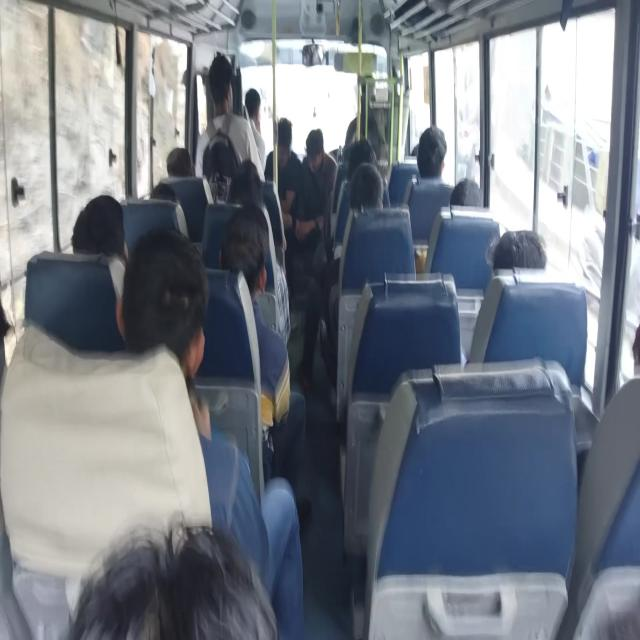person: (128, 220, 225, 387), (488, 194, 596, 330), (73, 548, 210, 640), (601, 297, 640, 420), (51, 177, 105, 249), (226, 202, 266, 287), (214, 52, 247, 127), (351, 165, 389, 218), (280, 110, 305, 168), (236, 163, 264, 212), (163, 127, 195, 168), (301, 127, 326, 176), (345, 134, 371, 180), (422, 129, 450, 169), (222, 144, 253, 180), (460, 164, 486, 205), (245, 69, 266, 111), (399, 149, 428, 168), (154, 172, 173, 200)
